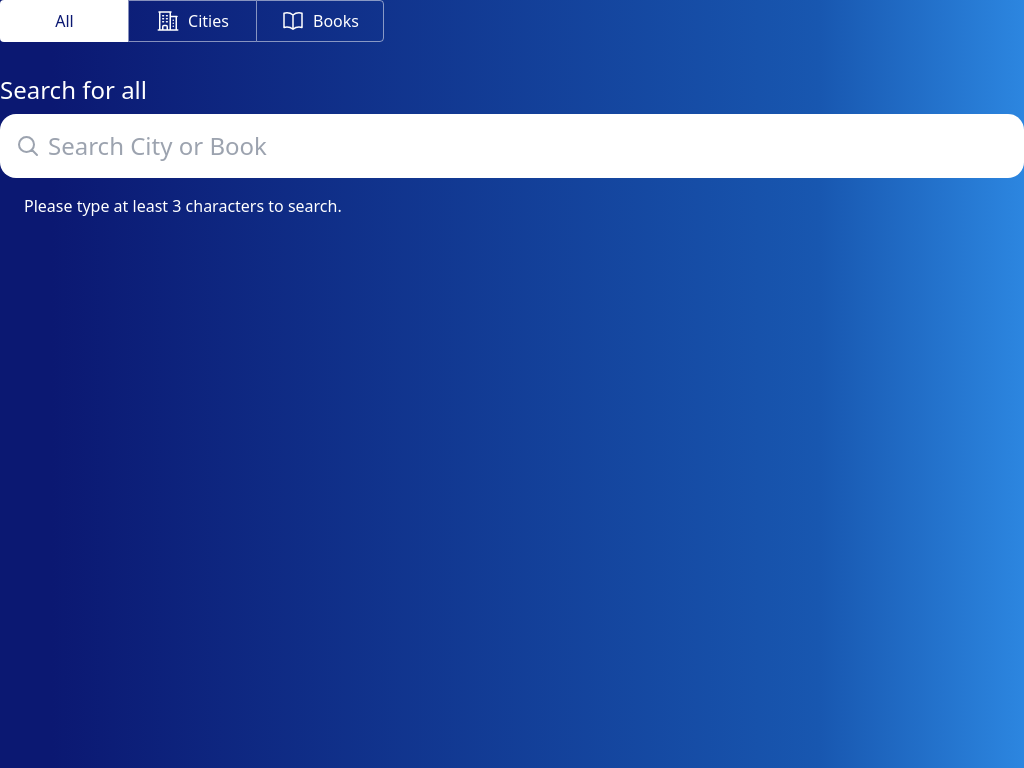
Test: Autocomplete Integration › changes for items when input is larger or equal to 3
Type "sa" into the field with placeholder "Search City or Book" at [512, 146], box [0,114,1023,178]
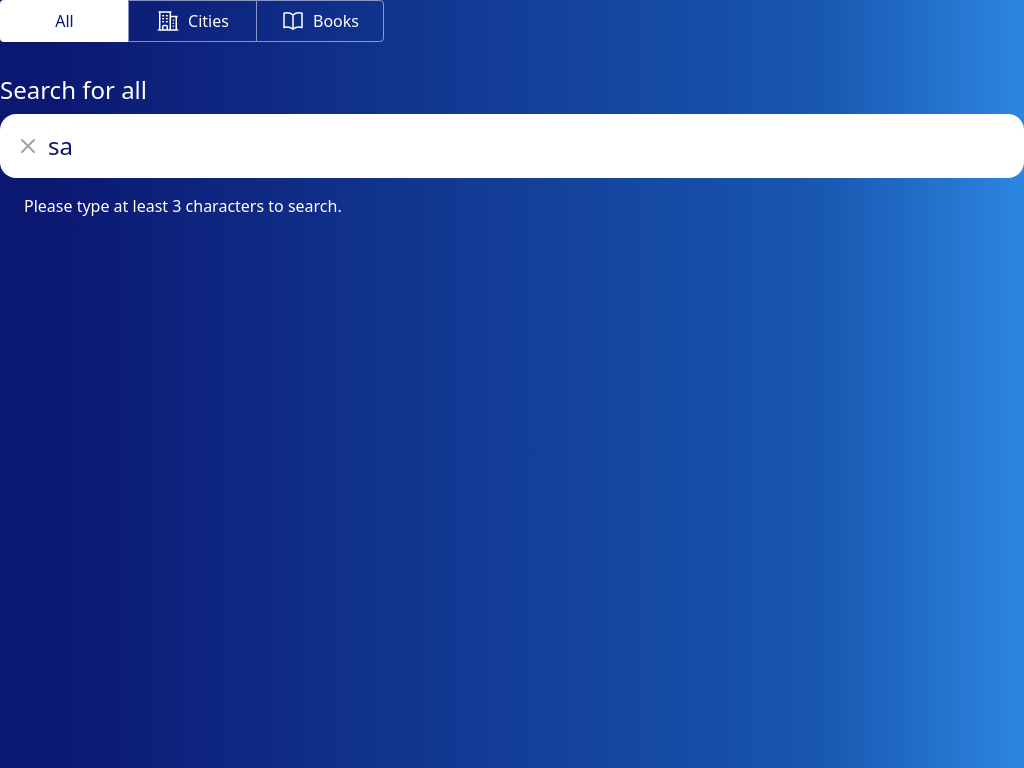
Check: the text "Please type at least 3 characters to search." is shown, box [24,195,342,217]
Replace the text in the field with "san" at [512, 146], box [0,114,1023,178]
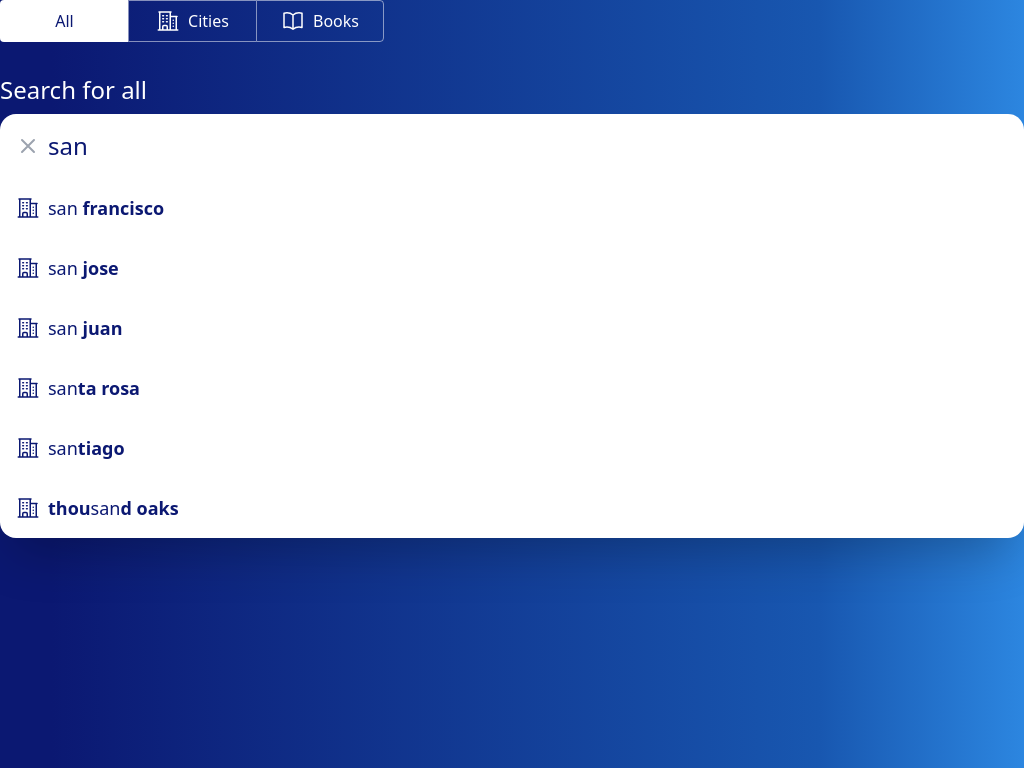
Check: the text "Please type at least 3 characters to search." is gone
Replace the text in the field with "sanfr" at [512, 146], box [0,114,1023,178]
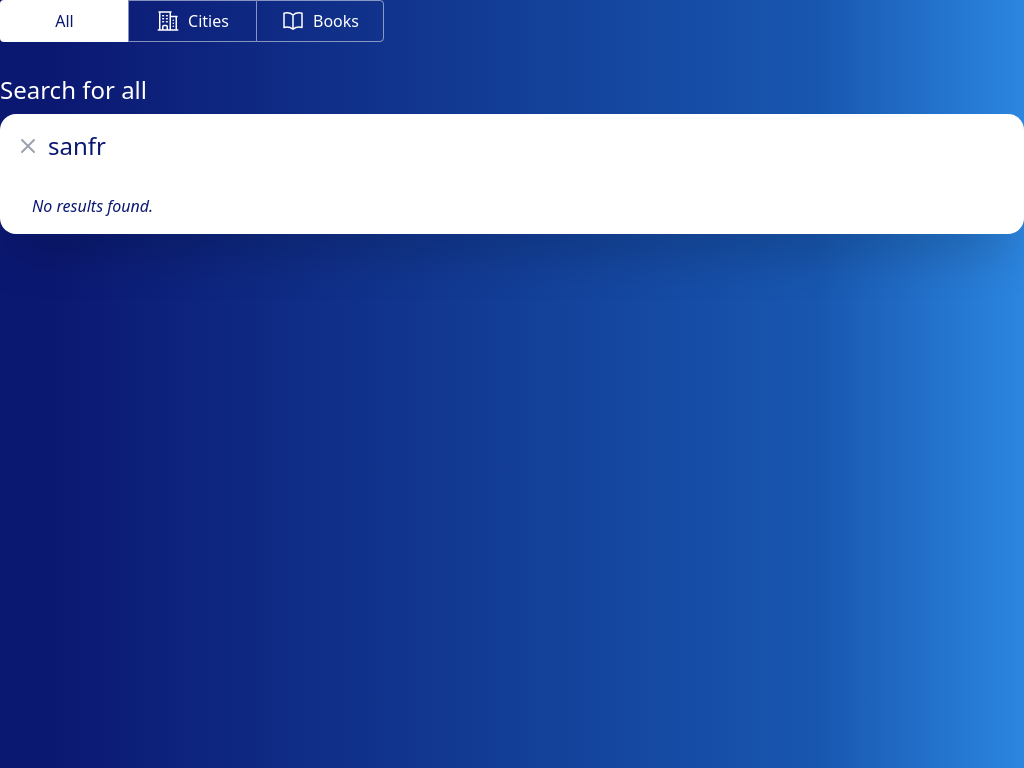
Check: the text "No results found." is shown, box [32,194,153,218]
Replace the text in the field with "san fr" at [512, 146], box [0,114,1023,178]
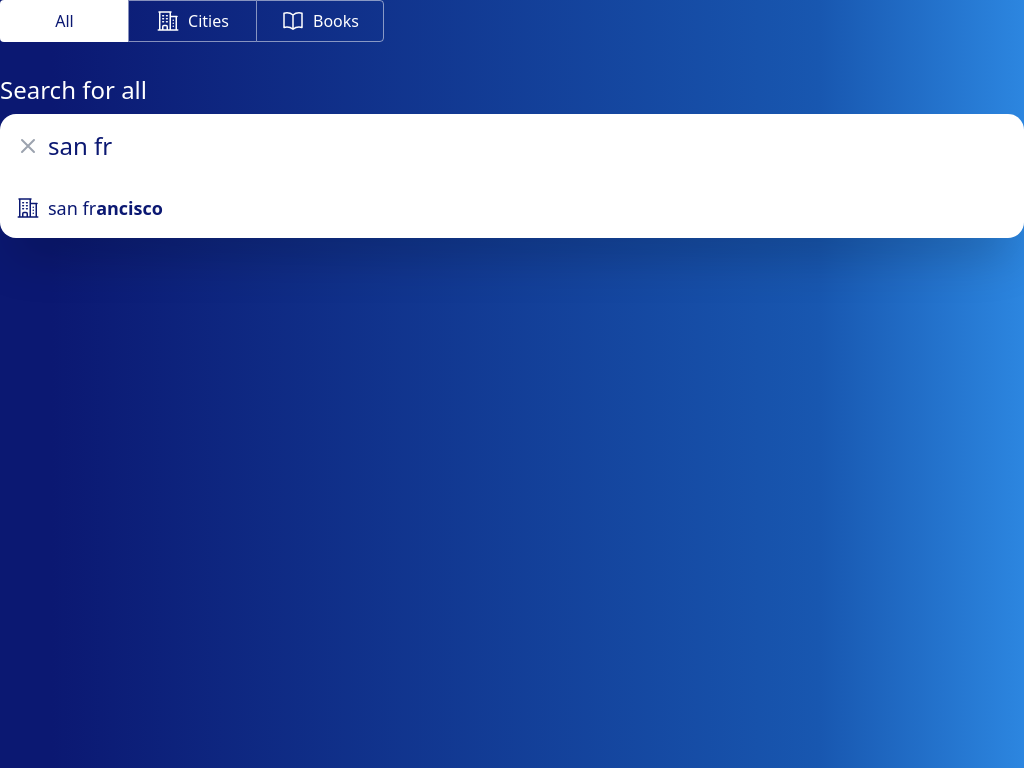
Check: the text "san francisco" is shown, box [48,194,163,222]
